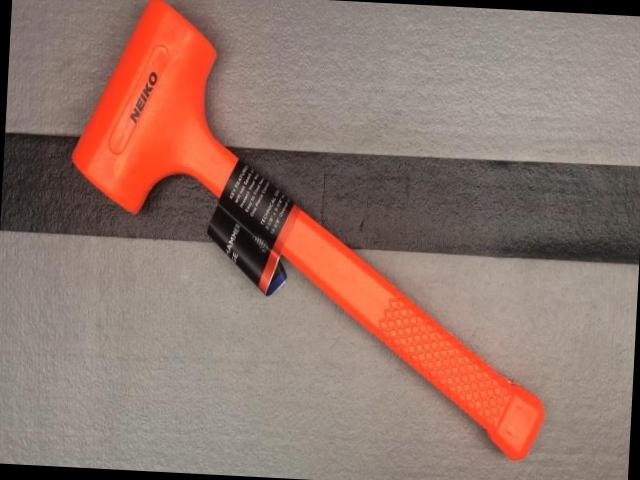hammer: (57, 0, 566, 461)
